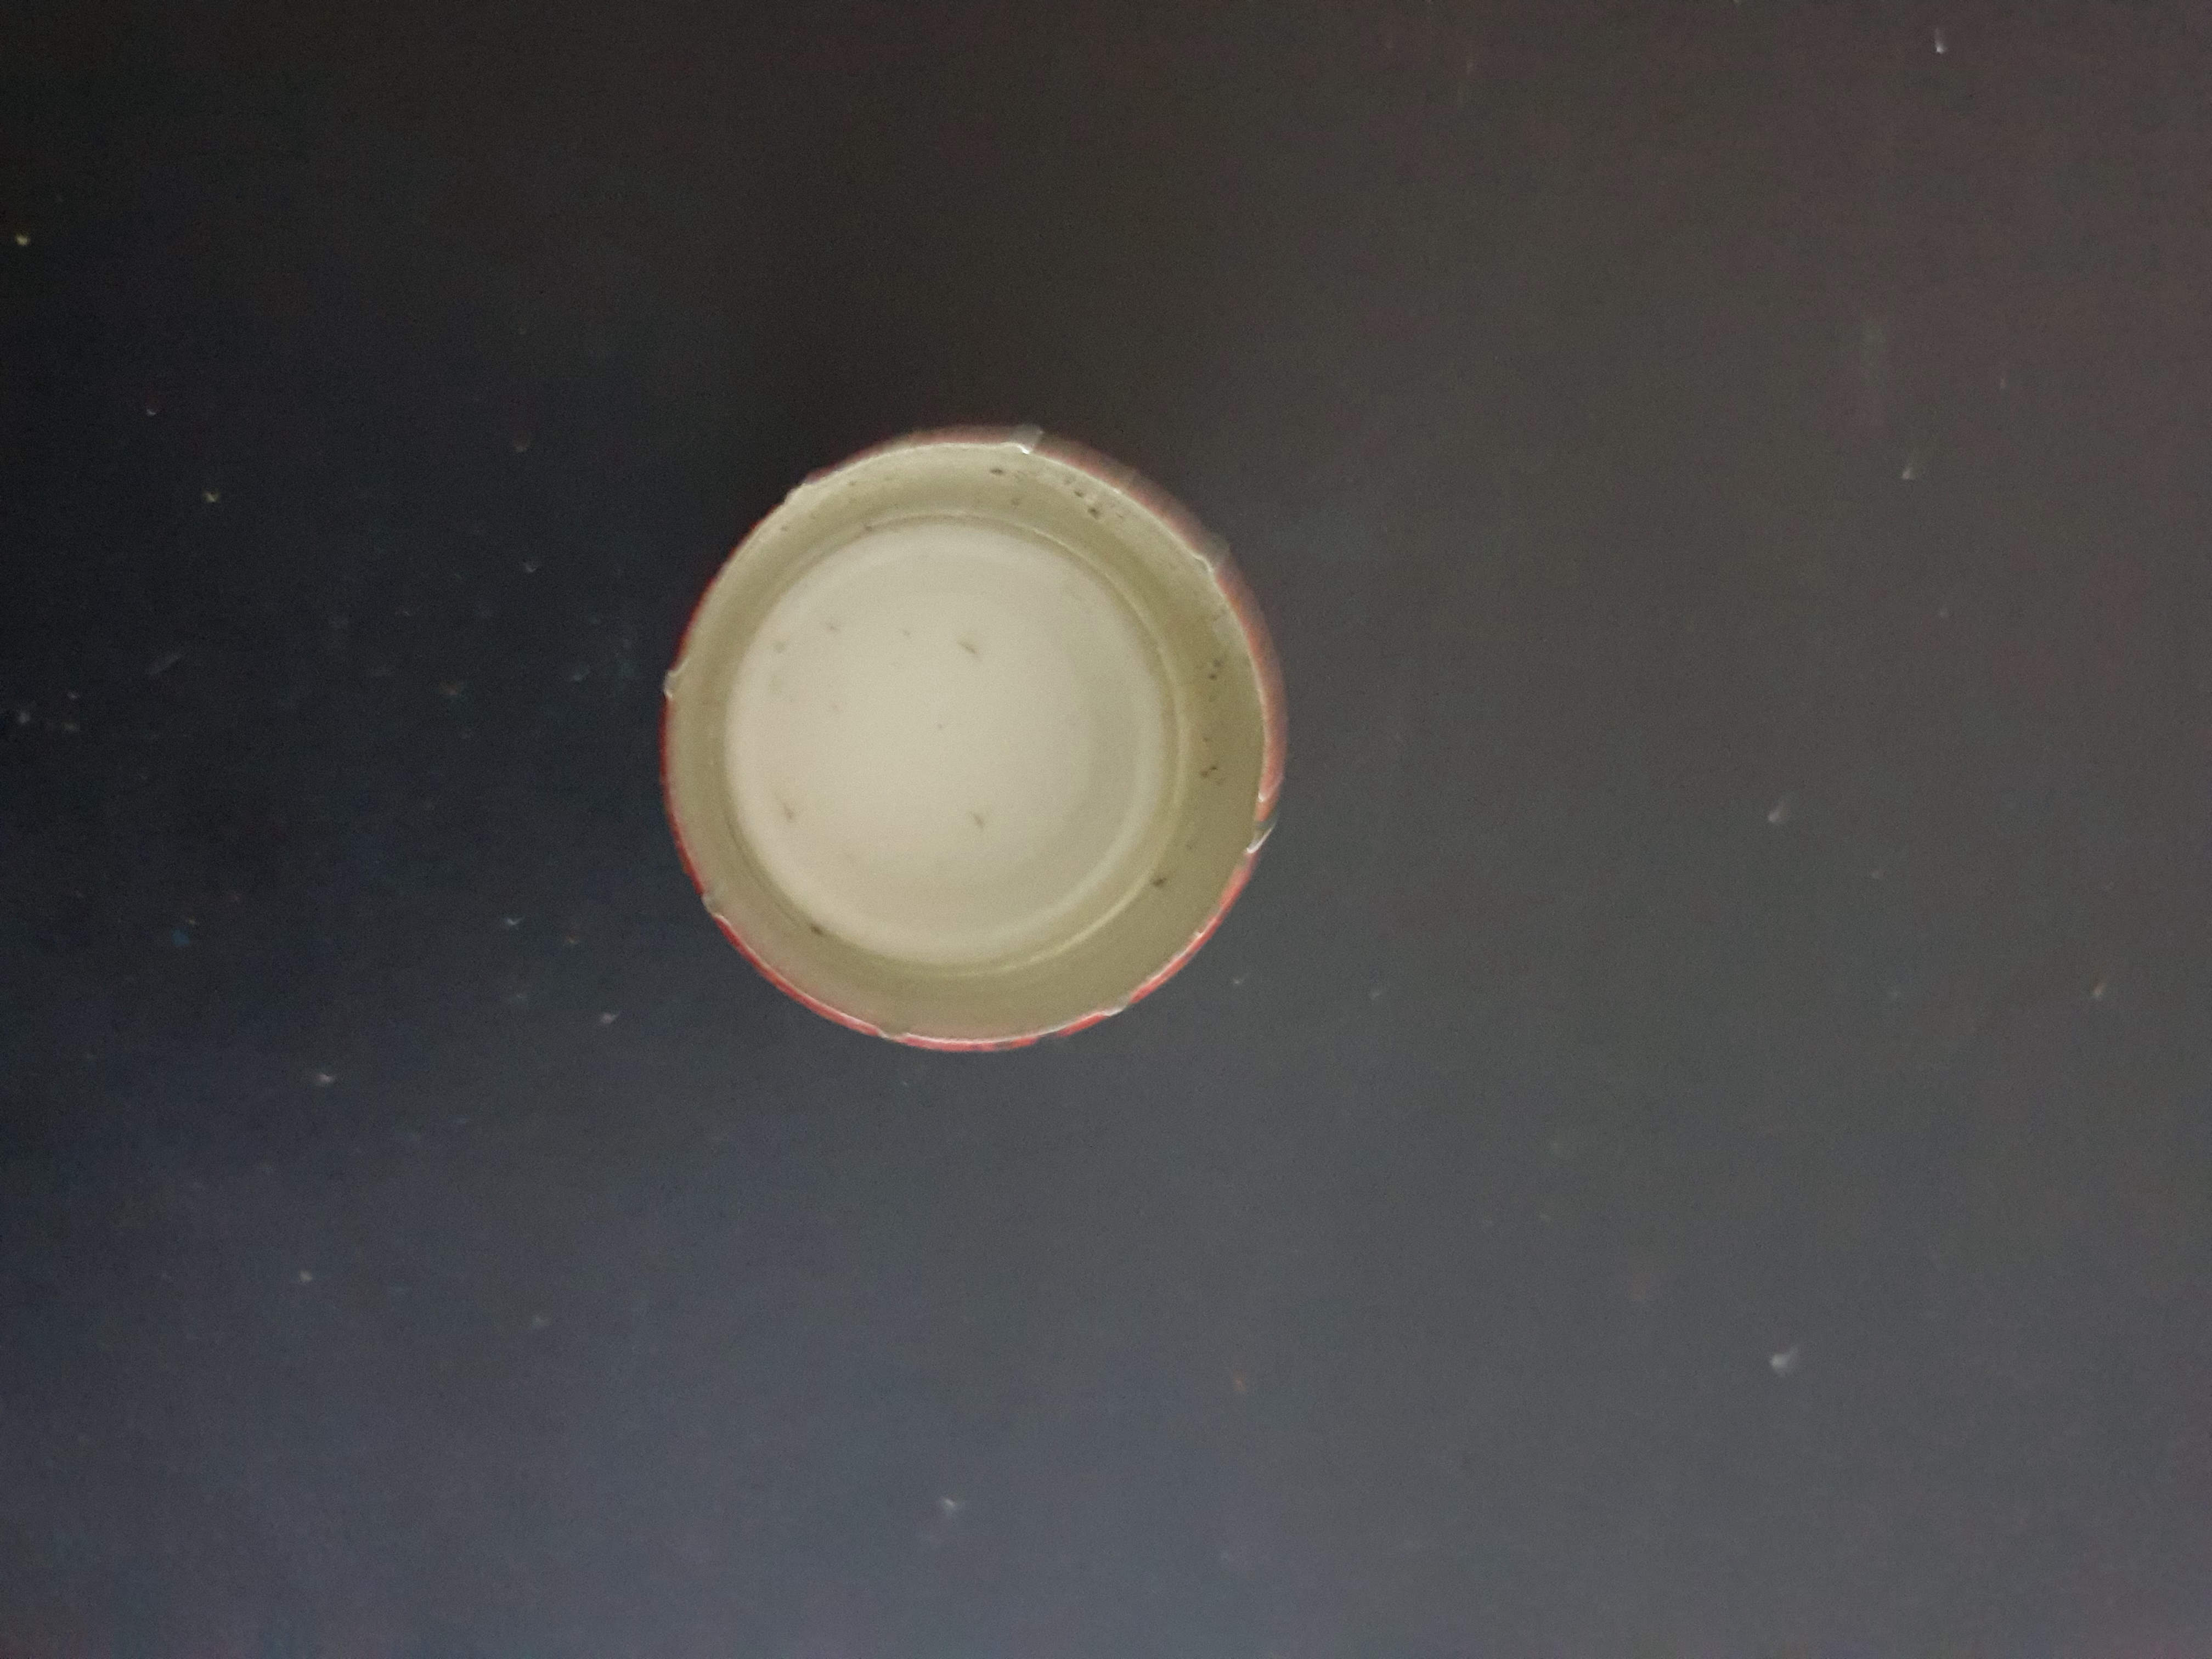metal: (632, 389, 1315, 1103)
